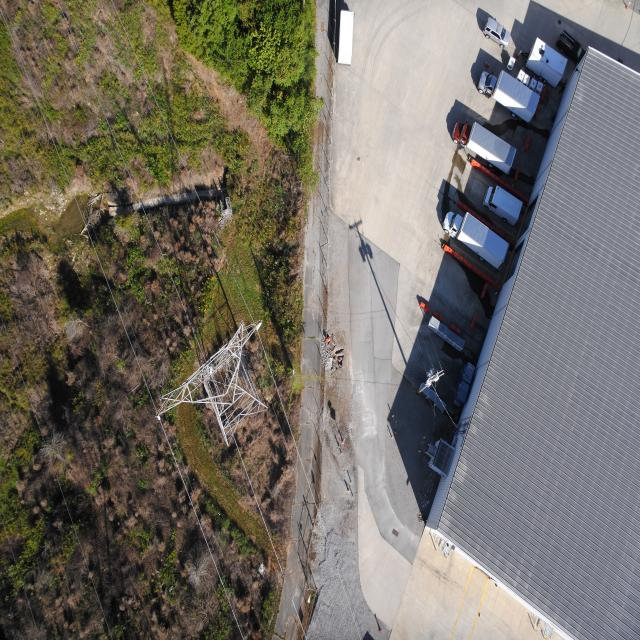Area of Interest: (172, 0, 319, 180)
